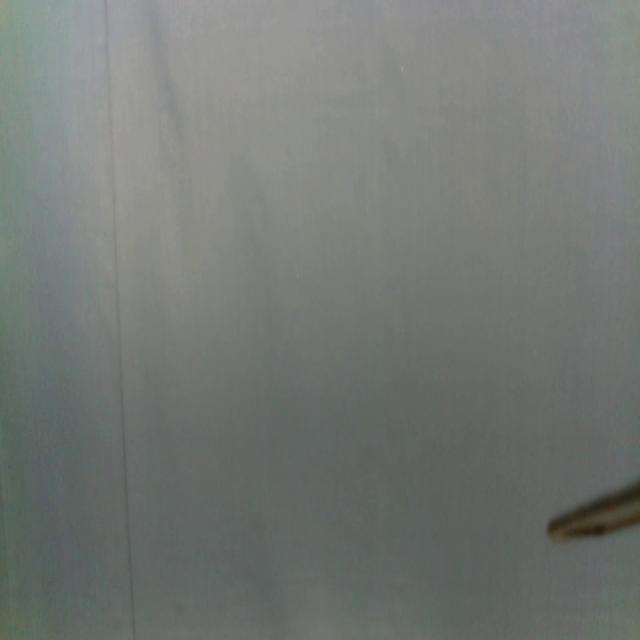crease: (104, 1, 136, 640)
